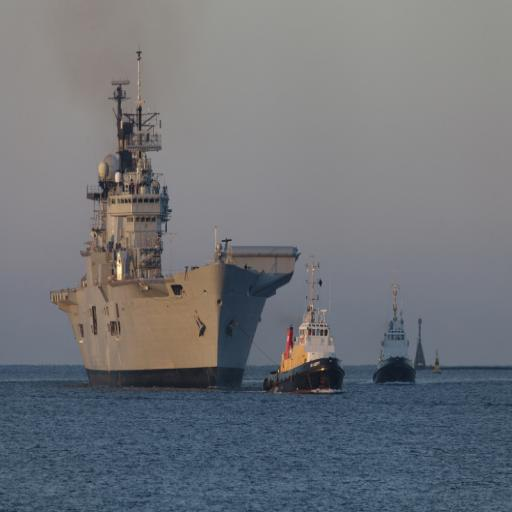Portanaves: (49, 40, 301, 393)
